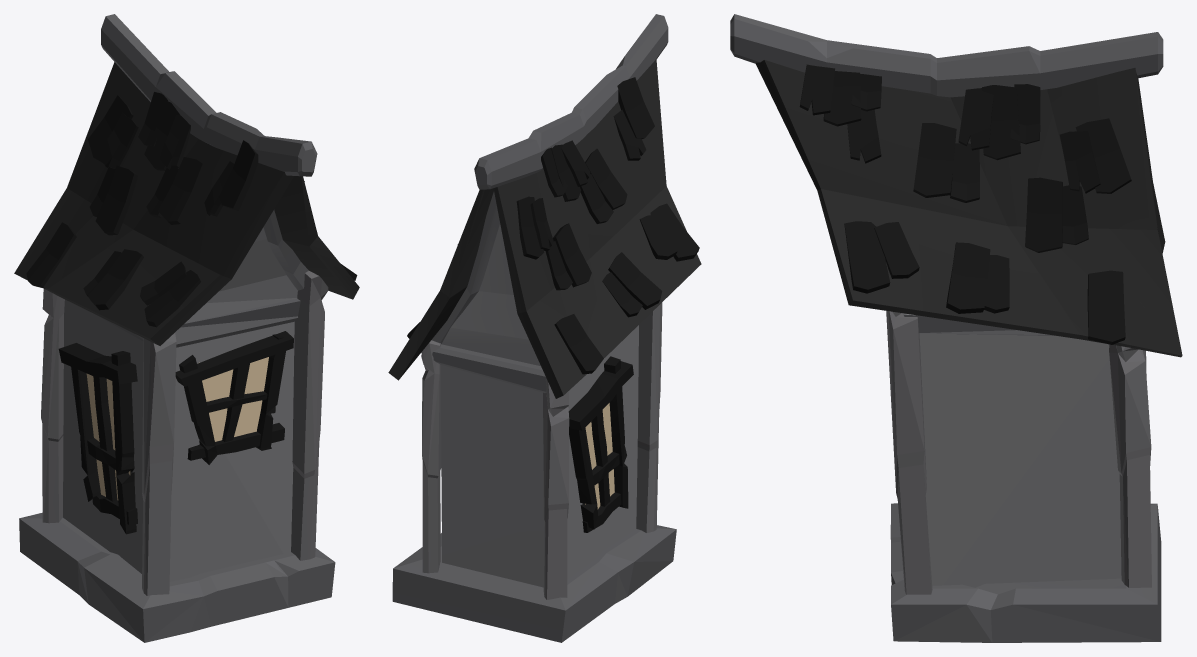
Rendered from WF_LP_HT_Build_HouseRoom.004.2.fbx.
3 renders of one model, left to right at view 1: azimuth 30°, elevation 25°; view 2: azimuth 150°, elevation 25°; view 3: azimuth 270°, elevation 25°, orthographic. The views are drawn at different scales.
Visible parts, largest first — view 1: WF_LP_HT_Build_HouseRoom.004.2; view 2: WF_LP_HT_Build_HouseRoom.004.2; view 3: WF_LP_HT_Build_HouseRoom.004.2.
Part boxes in pixels (x1=…): WF_LP_HT_Build_HouseRoom.004.2: x1=14, y1=14, x2=359, y2=642; WF_LP_HT_Build_HouseRoom.004.2: x1=388, y1=14, x2=701, y2=642; WF_LP_HT_Build_HouseRoom.004.2: x1=730, y1=14, x2=1182, y2=642.
Bounding box in the file's own units: 2.67 × 6.29 × 4.5.
